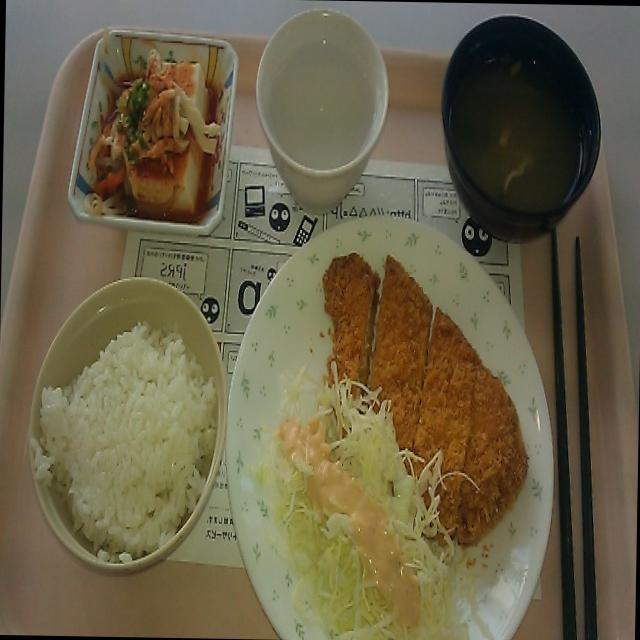Rice: (23, 302, 217, 562)
